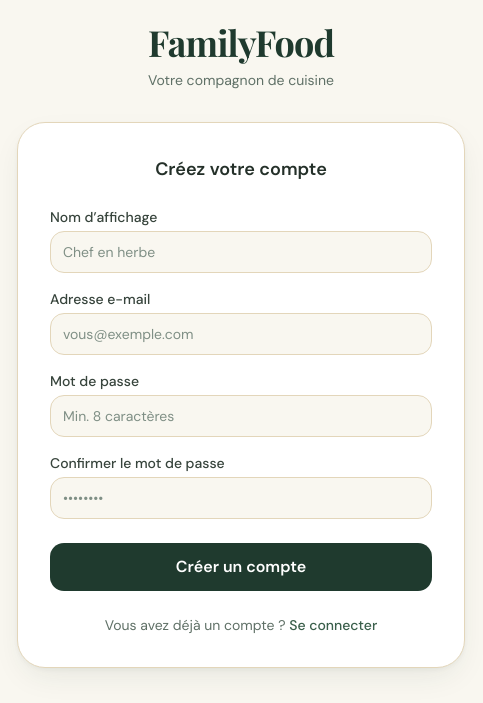
Test case: Auth System › Register Page › shows validation error for mismatched passwords
Expected: the heading "Créez votre compte" is shown, [155,157,327,181]
In the field labelled "Nom d’affichage": (241, 252) [50,231,432,273], type "Chef"
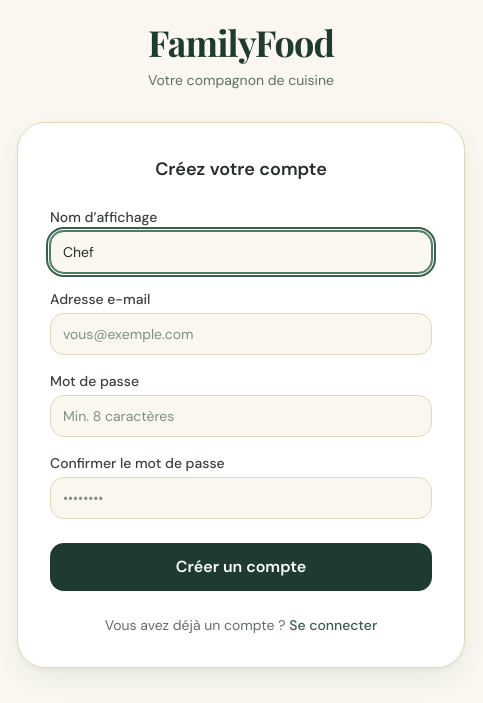
In the field labelled "Adresse e-mail": (241, 334) [50,313,432,355], type "chef@example.com"
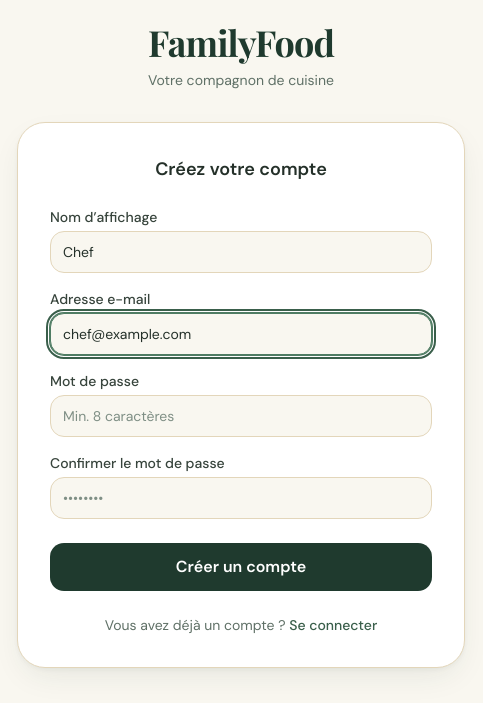
In the password field labelled "Mot de passe": (241, 416) [50,395,432,437], type "Password1"
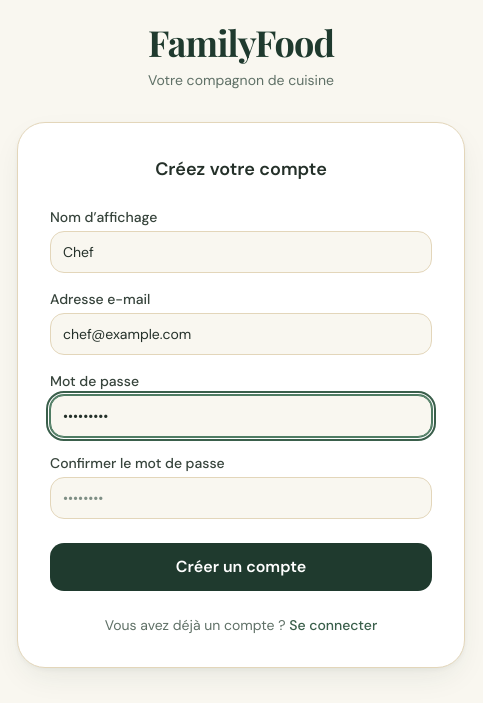
In the password field labelled "Confirmer le mot de passe": (241, 498) [50,477,432,519], type "Password2"
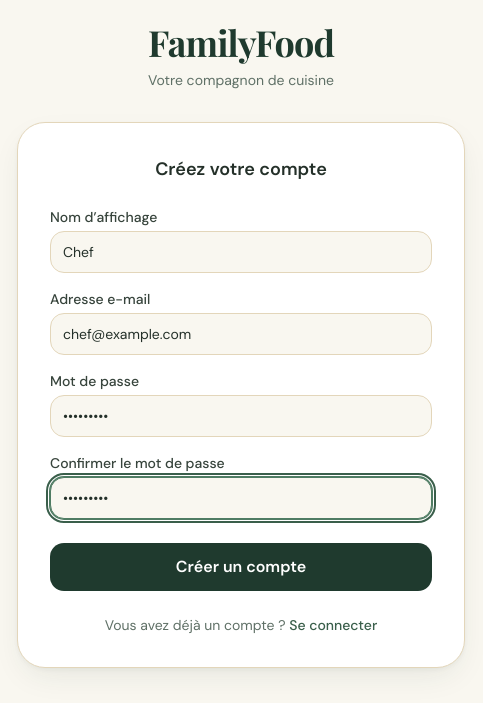
Click the button "Créer un compte": (241, 567) [50,543,432,591]
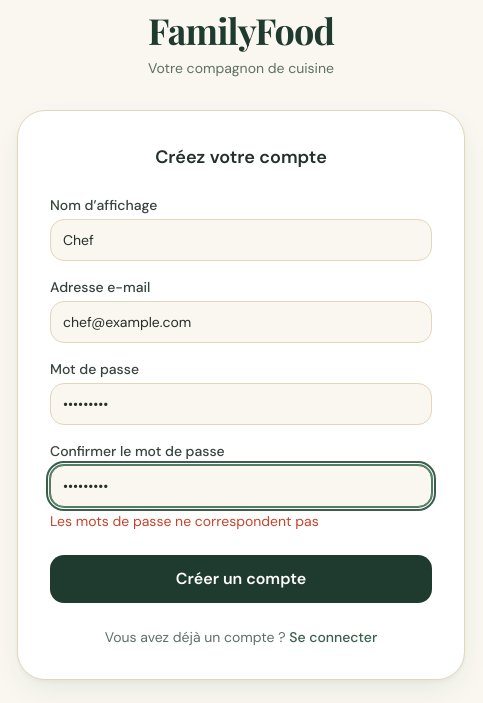
Expected: the text "Les mots de passe ne correspondent pas" is shown, [50,512,319,530]
